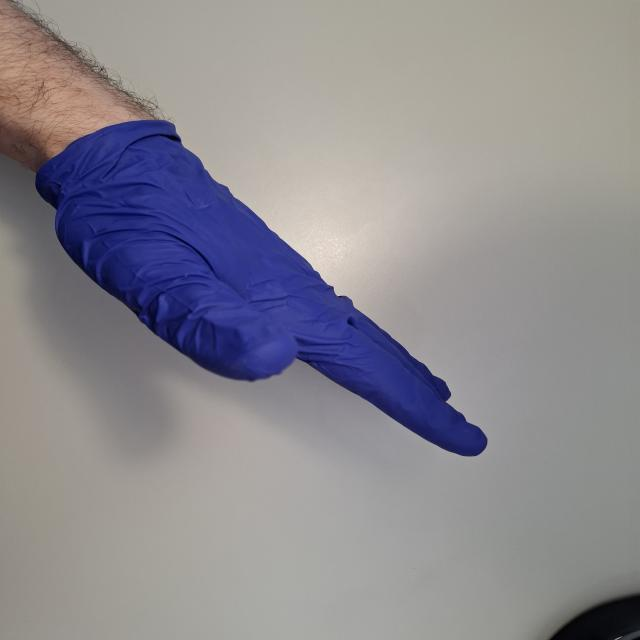glove_on: (28, 124, 494, 460)
